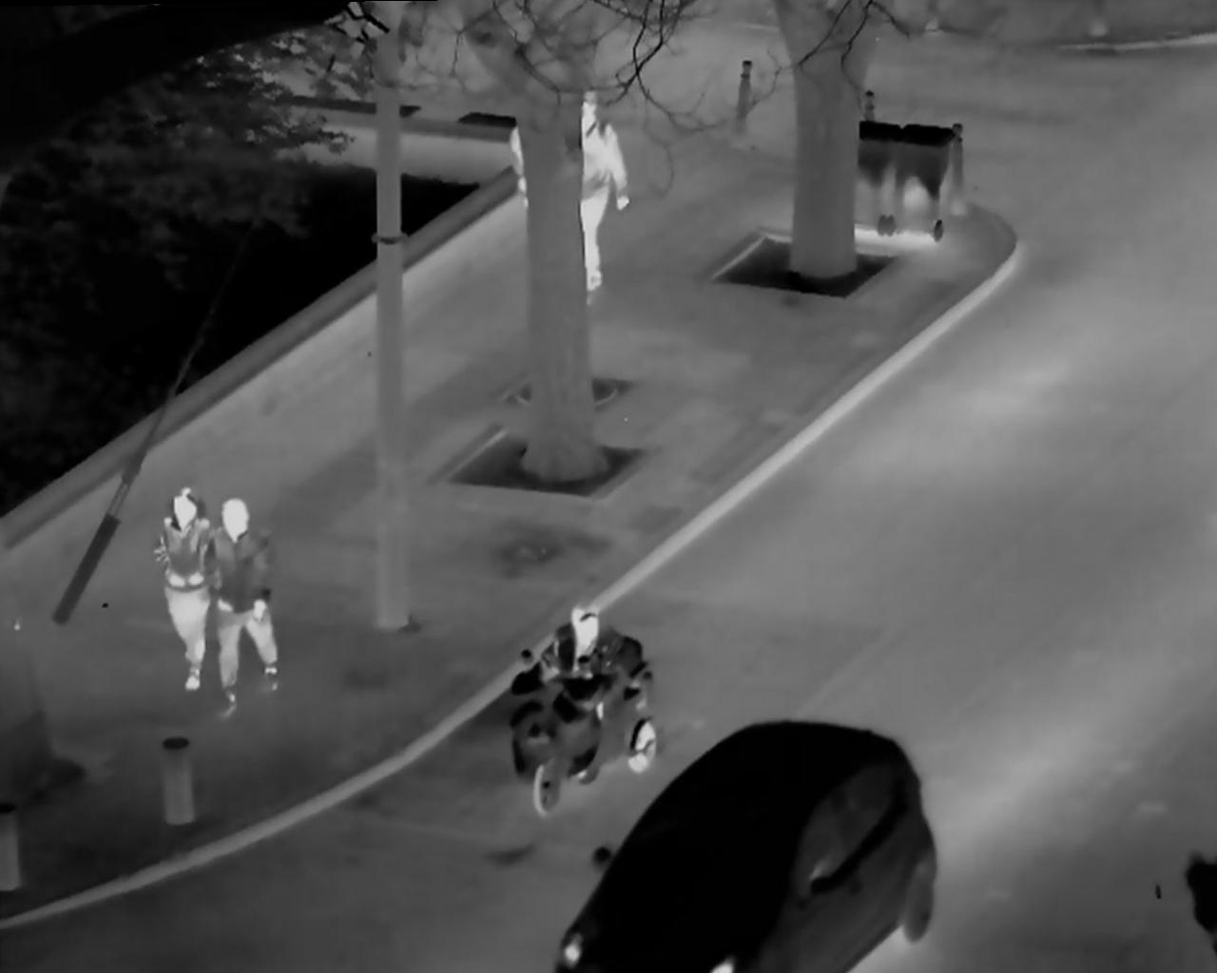person: (208, 493, 281, 724), (531, 592, 628, 749), (577, 84, 634, 322), (155, 482, 206, 676)
